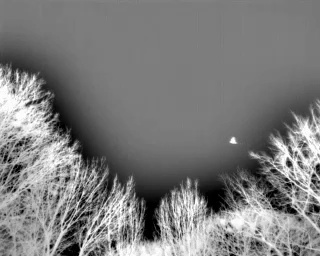BIRD: (227, 134, 240, 148)
